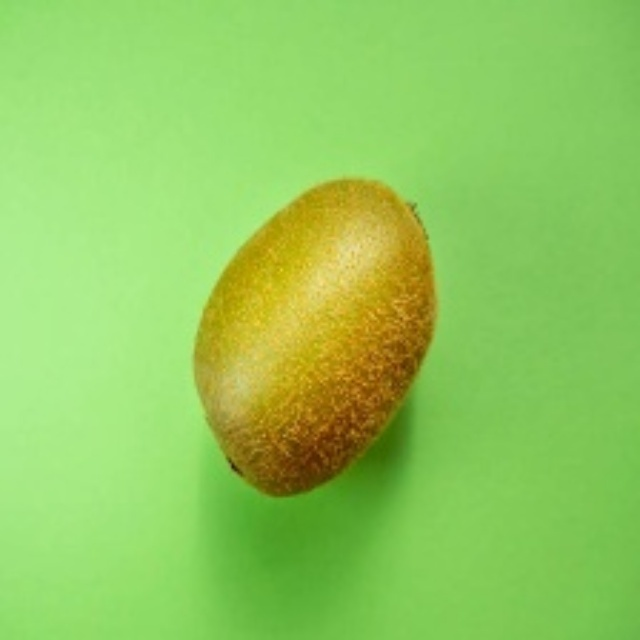kiwi: (197, 176, 468, 508)
